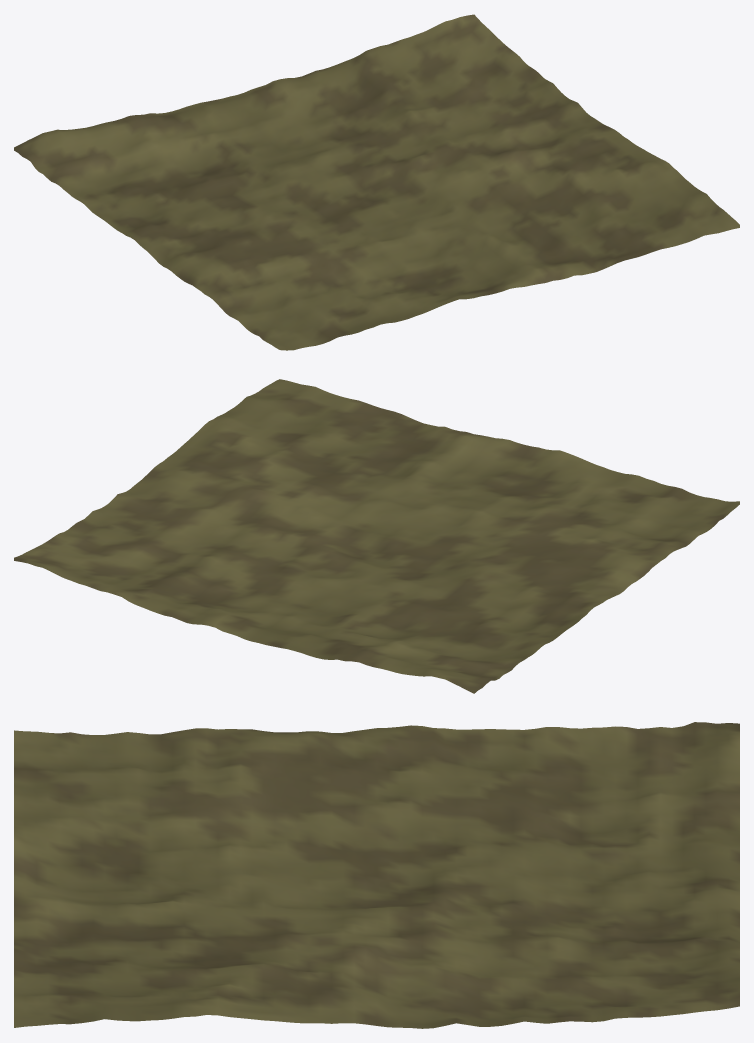
The model's file is land_f_08_03.glb.
The picture shows the model from 3 angles, top to bottom: view 1: azimuth 30°, elevation 25°; view 2: azimuth 150°, elevation 25°; view 3: azimuth 270°, elevation 25°; orthographic projection. The views are drawn at different scales.
Visible parts, largest first — view 1: land_f_08_03; view 2: land_f_08_03; view 3: land_f_08_03.
Part boxes in pixels (box(x1,y1,x2,y2)): land_f_08_03: box(14, 14, 739, 350); land_f_08_03: box(14, 379, 739, 693); land_f_08_03: box(14, 722, 739, 1028).
Size of the model in its own units: 3840 by 284 by 3840.
